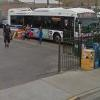Bus: (5, 4, 94, 47)
